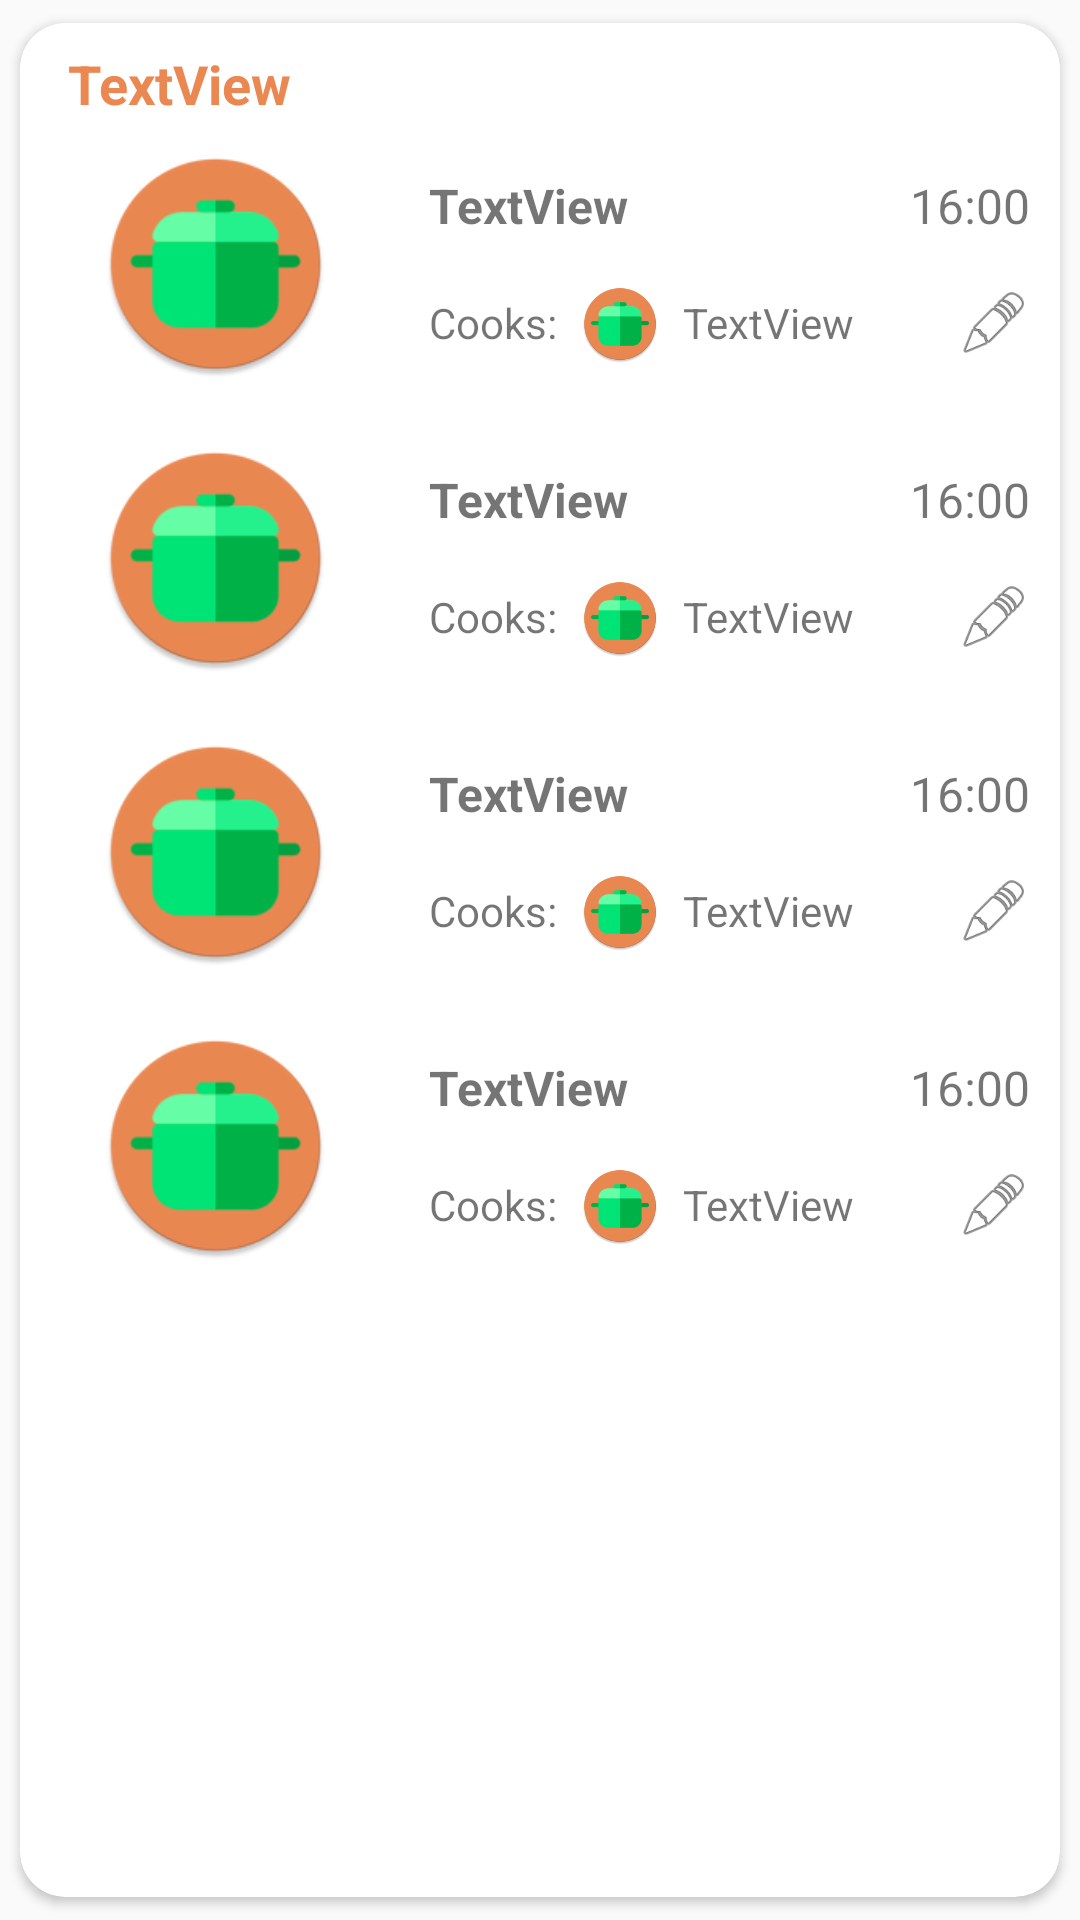

Icon click points for this 1080 x 1920 phone screenshot, format (x,y):
edit: (993,322), (993,616), (993,910), (993,1204)
